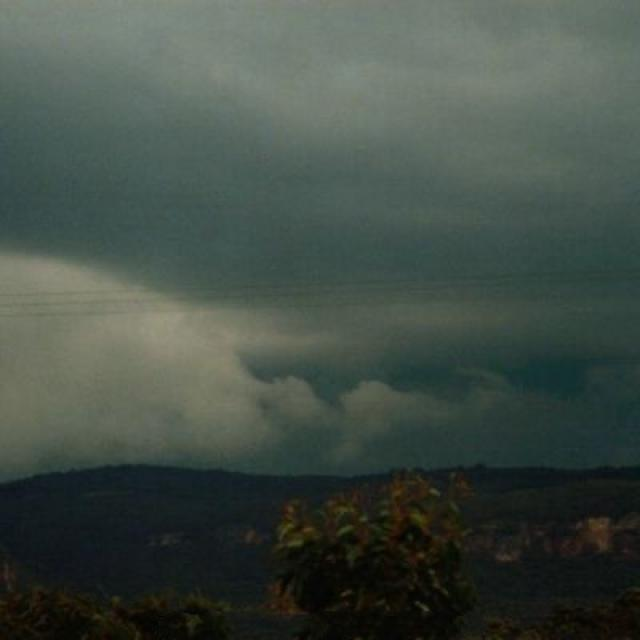St: (1, 42, 640, 431)
